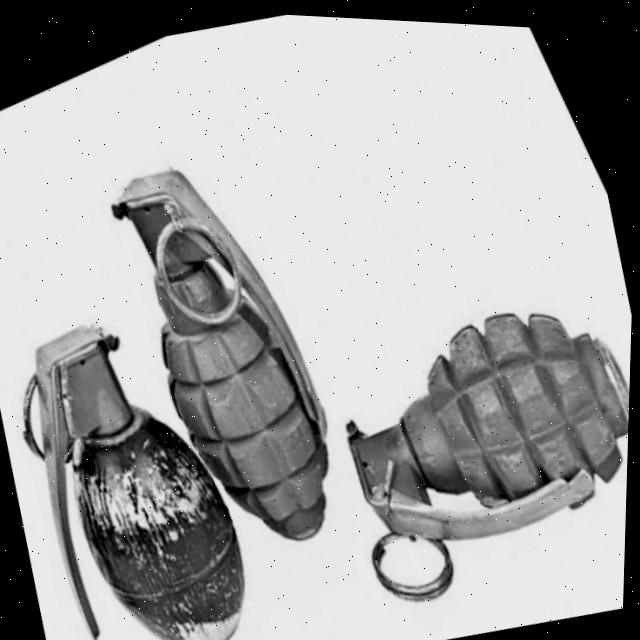grenade: (0, 70, 423, 640), (286, 234, 635, 605)
